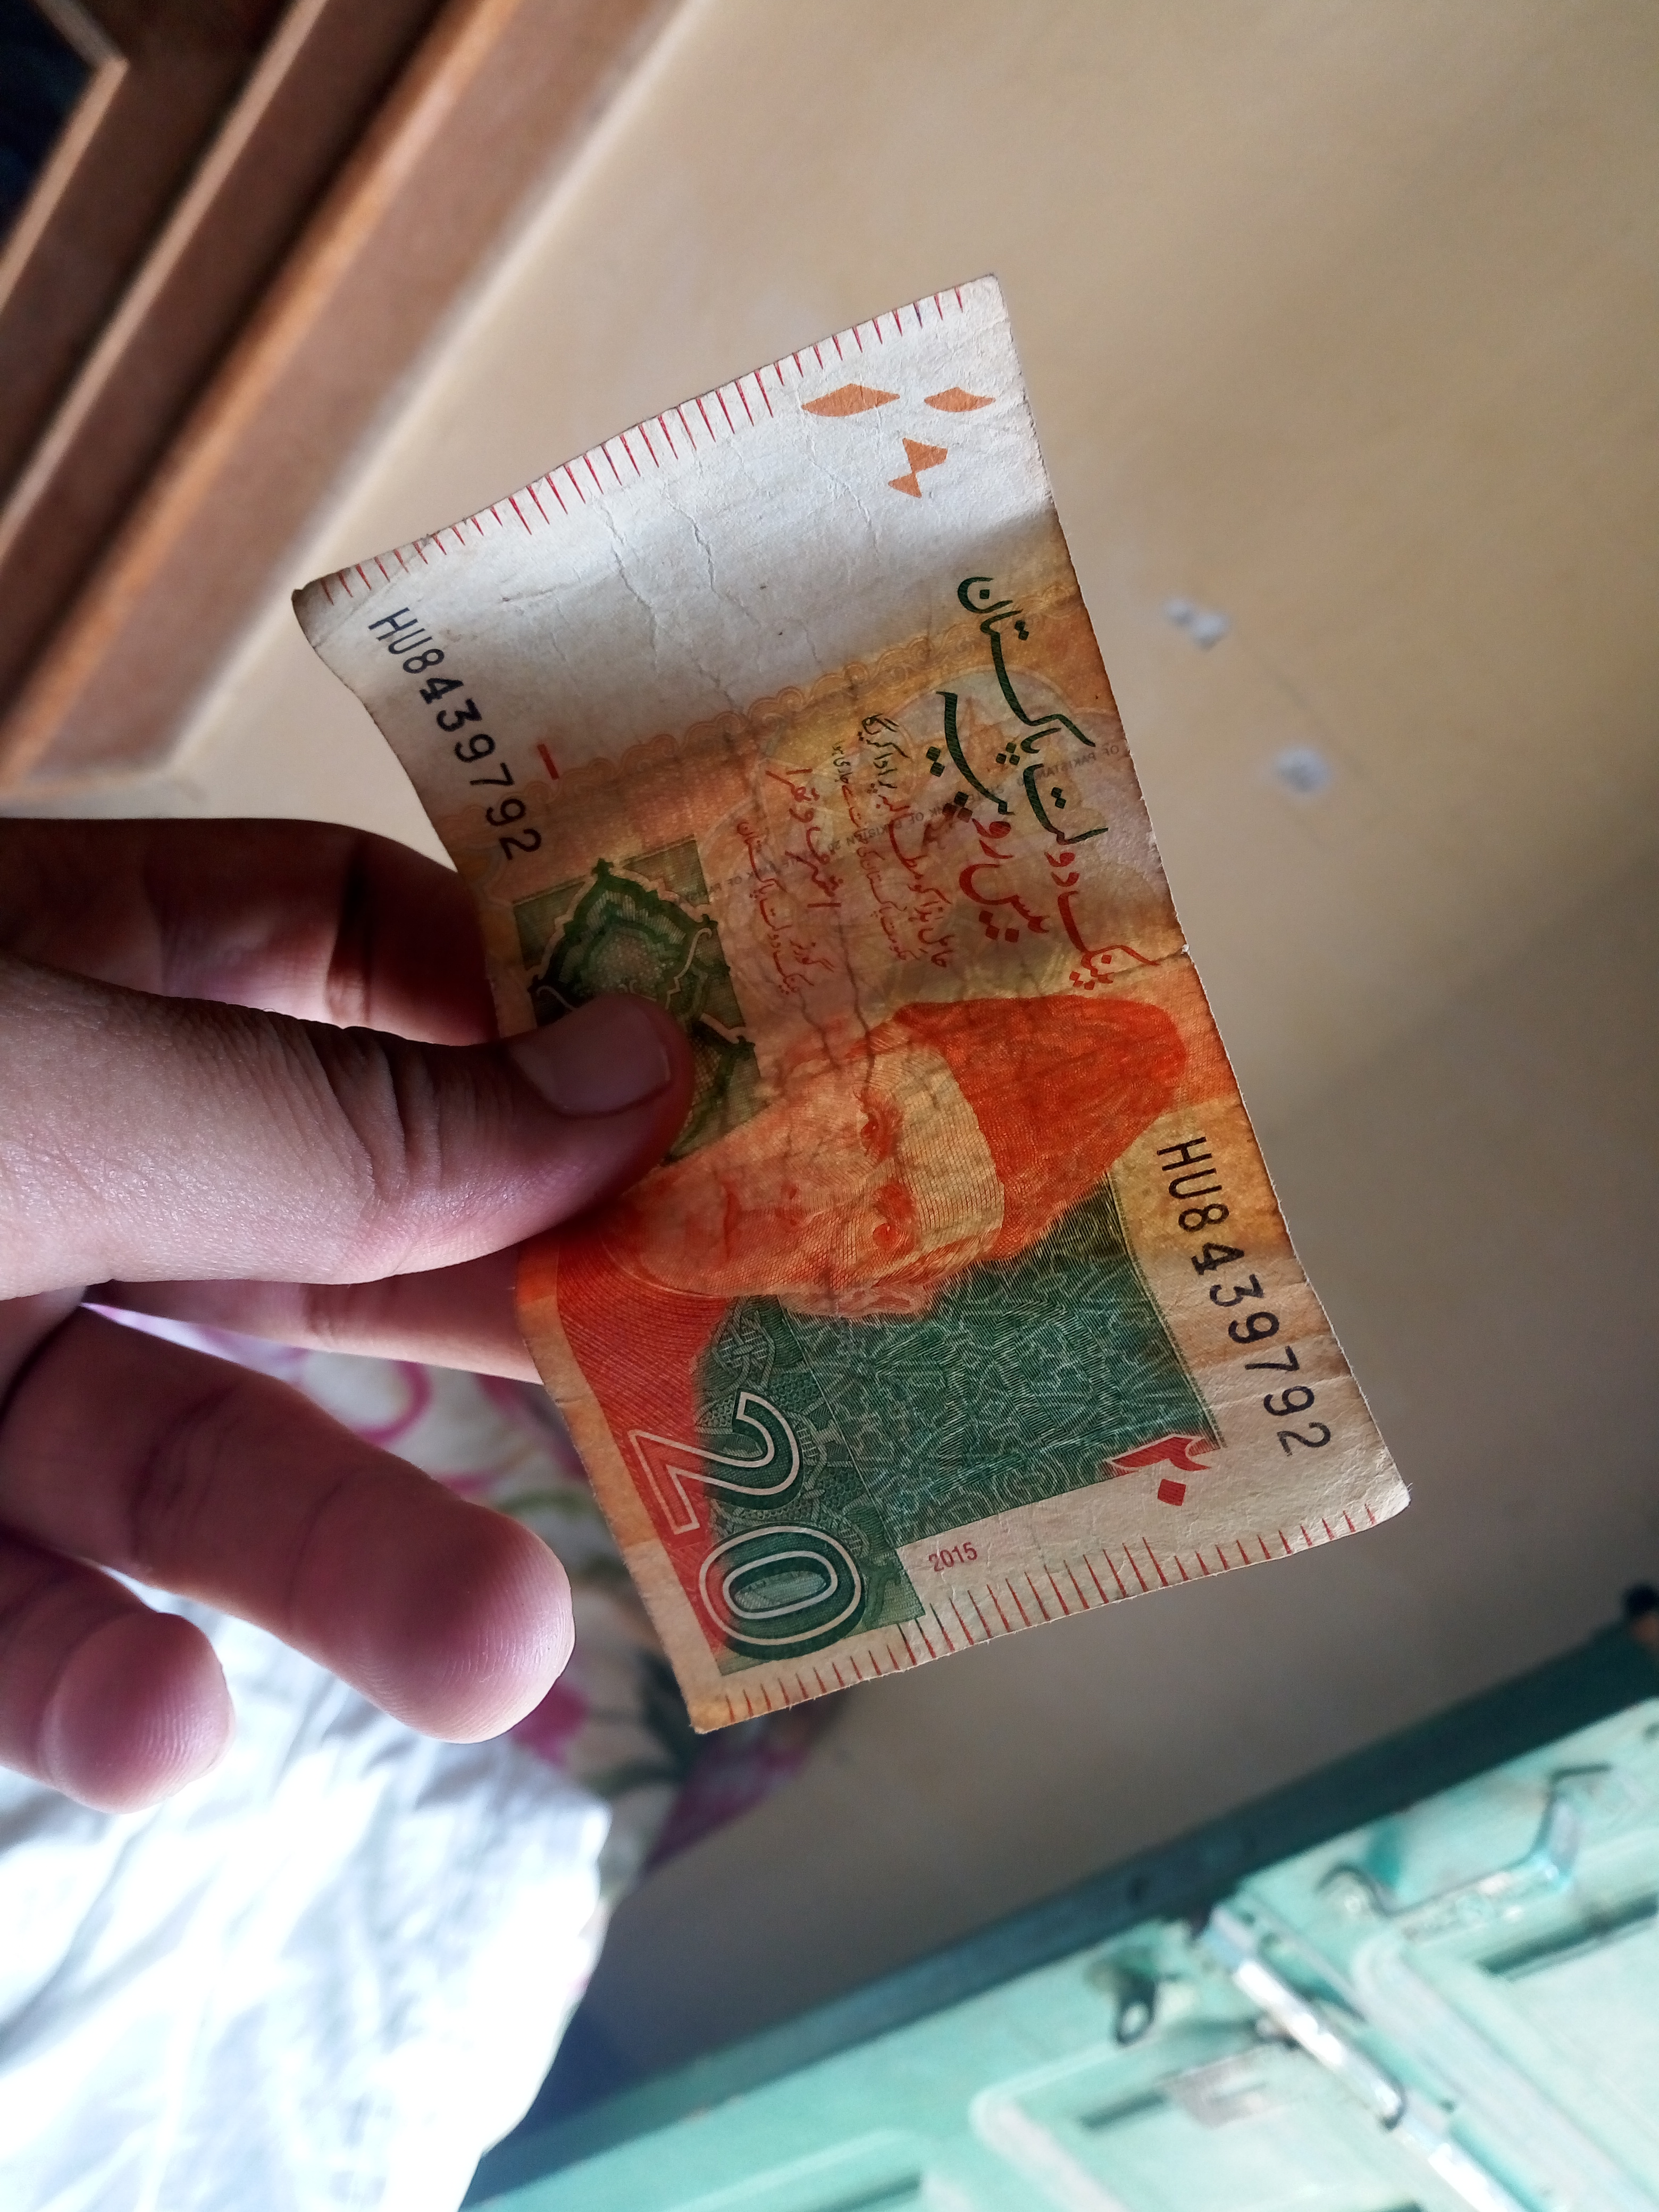20 rupee: (232, 188, 1441, 1817)
